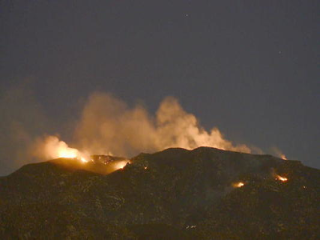fire: (59, 152, 92, 167), (109, 159, 126, 171), (276, 175, 288, 183), (234, 180, 245, 187)
smoke: (39, 82, 247, 156)
